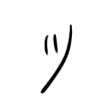tsu: (34, 20, 78, 96)
